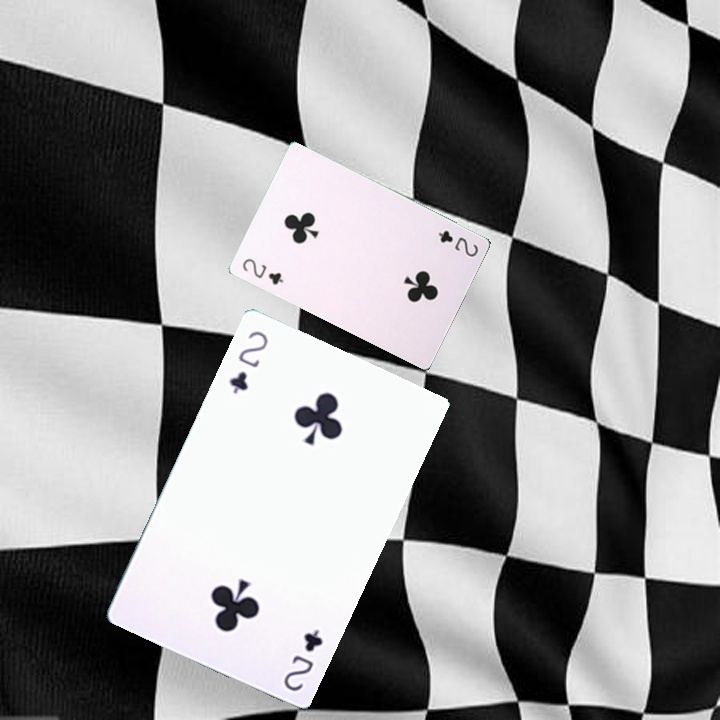2c: (225, 326, 271, 397), (279, 625, 325, 694), (238, 254, 286, 288), (434, 226, 481, 260)
